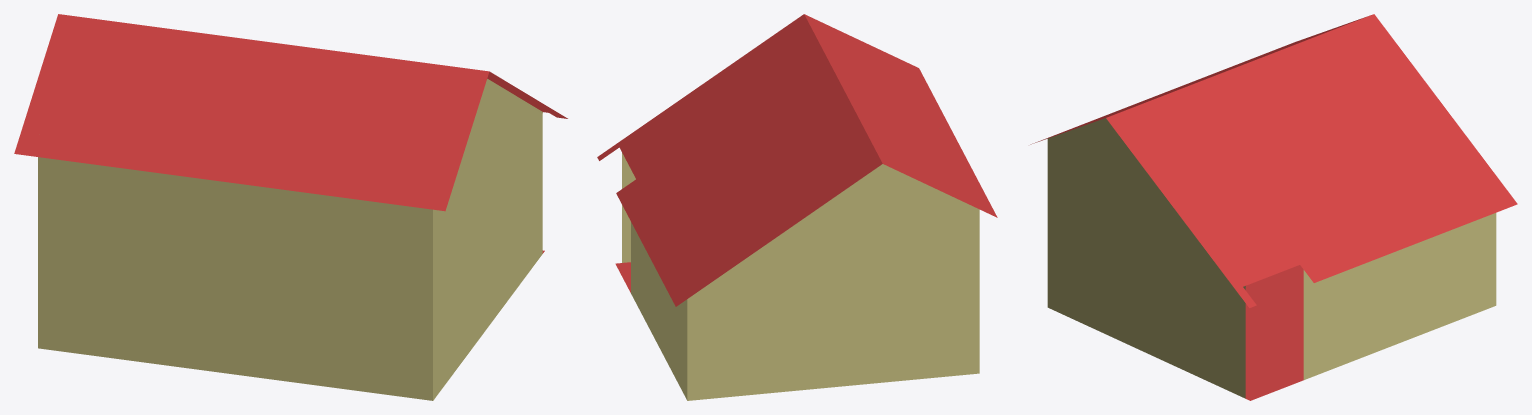
3 renders of one model, left to right at view 1: azimuth 30°, elevation 25°; view 2: azimuth 150°, elevation 25°; view 3: azimuth 270°, elevation 25°, orthographic. The views are drawn at different scales.
Size of the model in its own units: 24.14 by 24.24 by 12.28.
